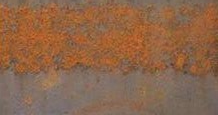Corrosion: (1, 1, 218, 77)
